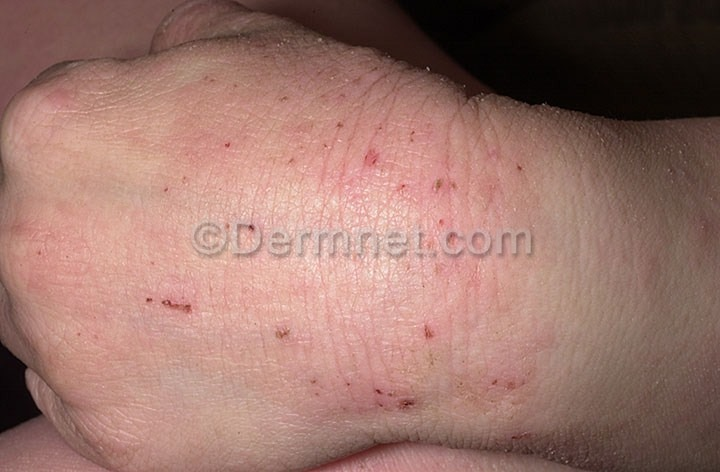Eczema: (24, 78, 603, 459), (622, 126, 720, 468)
